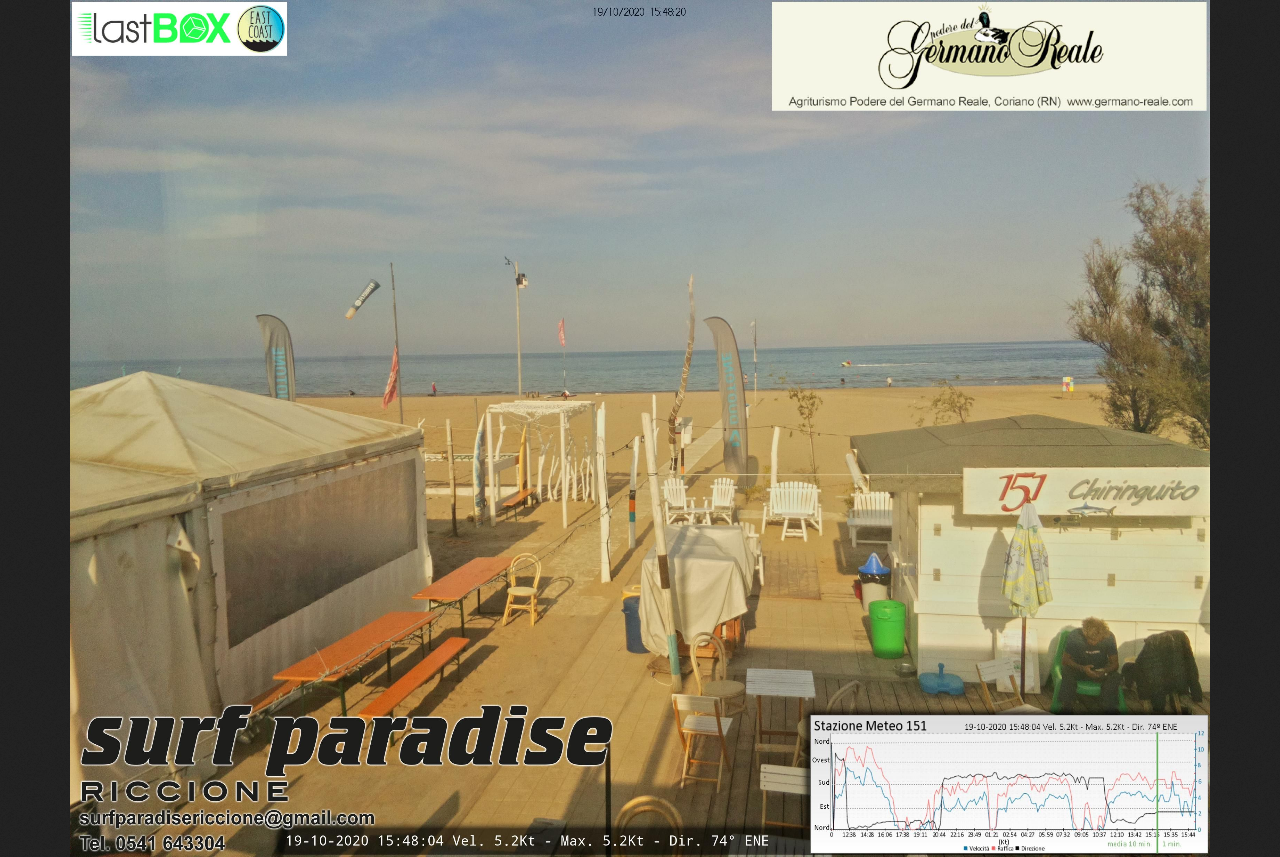maybe: (382, 340, 401, 412)
